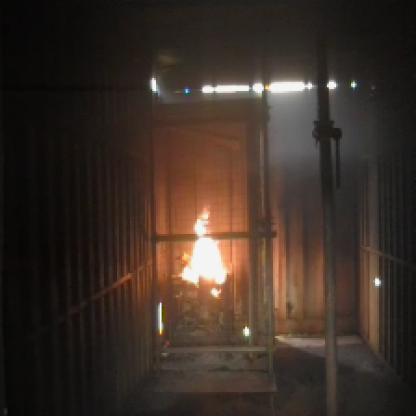Fire: (184, 204, 228, 297)
